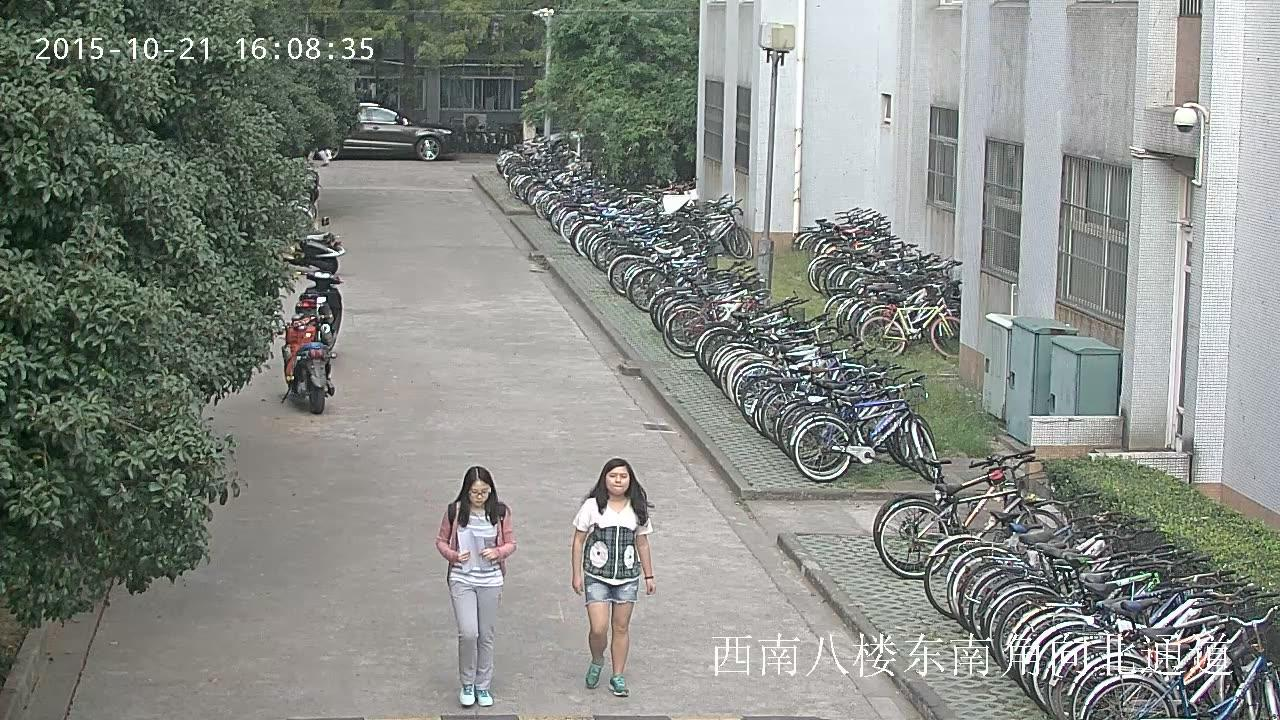person: (571, 457, 656, 695), (434, 466, 516, 706)
